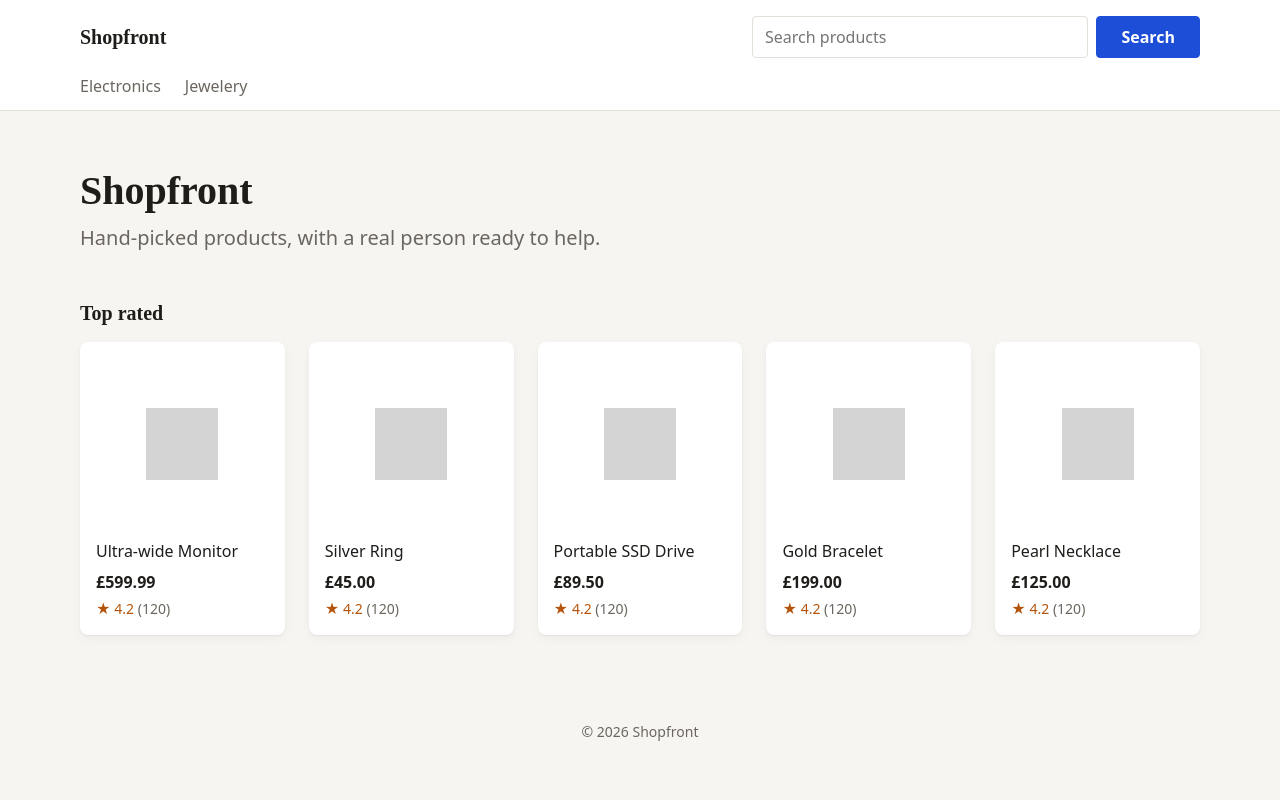
Product page › GIVEN I am browsing WHEN I click a product tile THEN I see the product details page
This screenshot has width=1280, height=800.
Click the heading "Ultra-wide Monitor" at [167, 551], box [96,540,238,562]
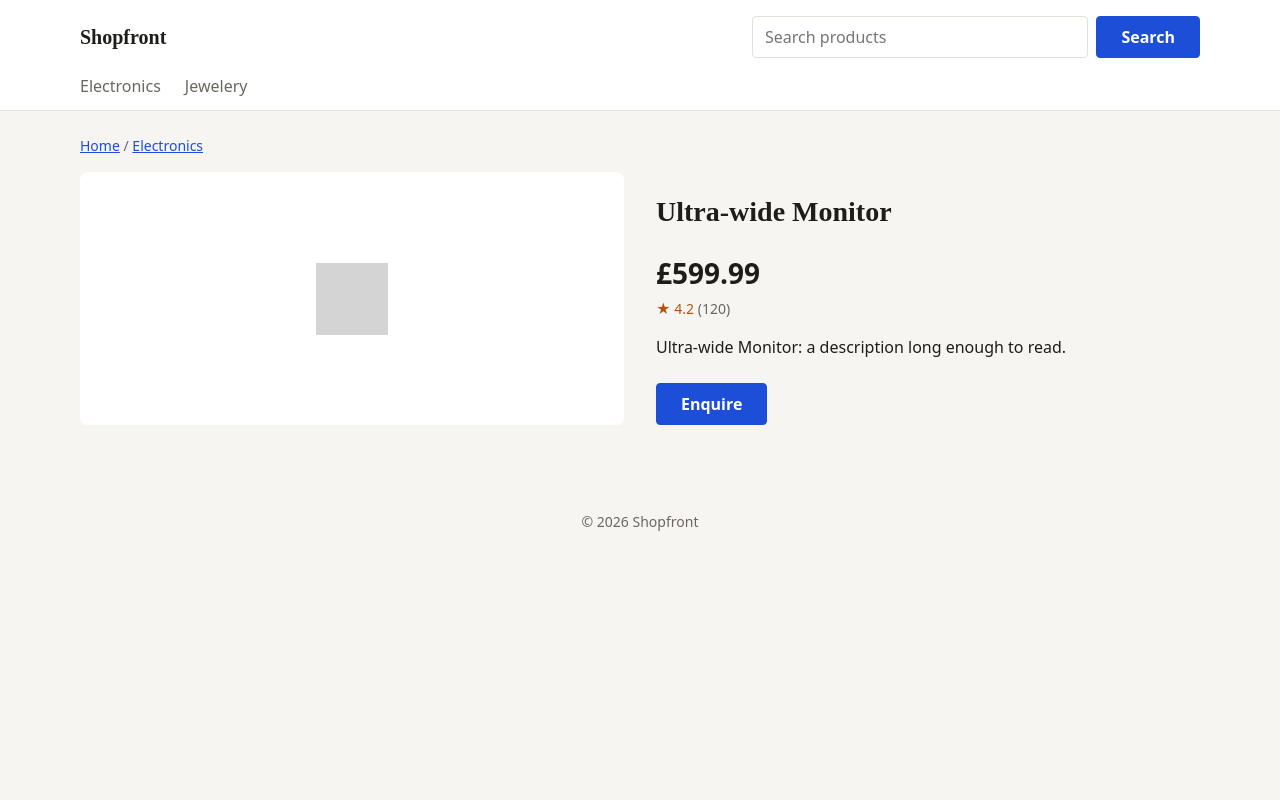
Check: the text "£599.99" is shown, box [656,254,760,292]
Check: the heading "Ultra-wide Monitor" is shown, box [656,196,892,227]
Check: the button "Enquire" is shown, box [656,383,767,425]
